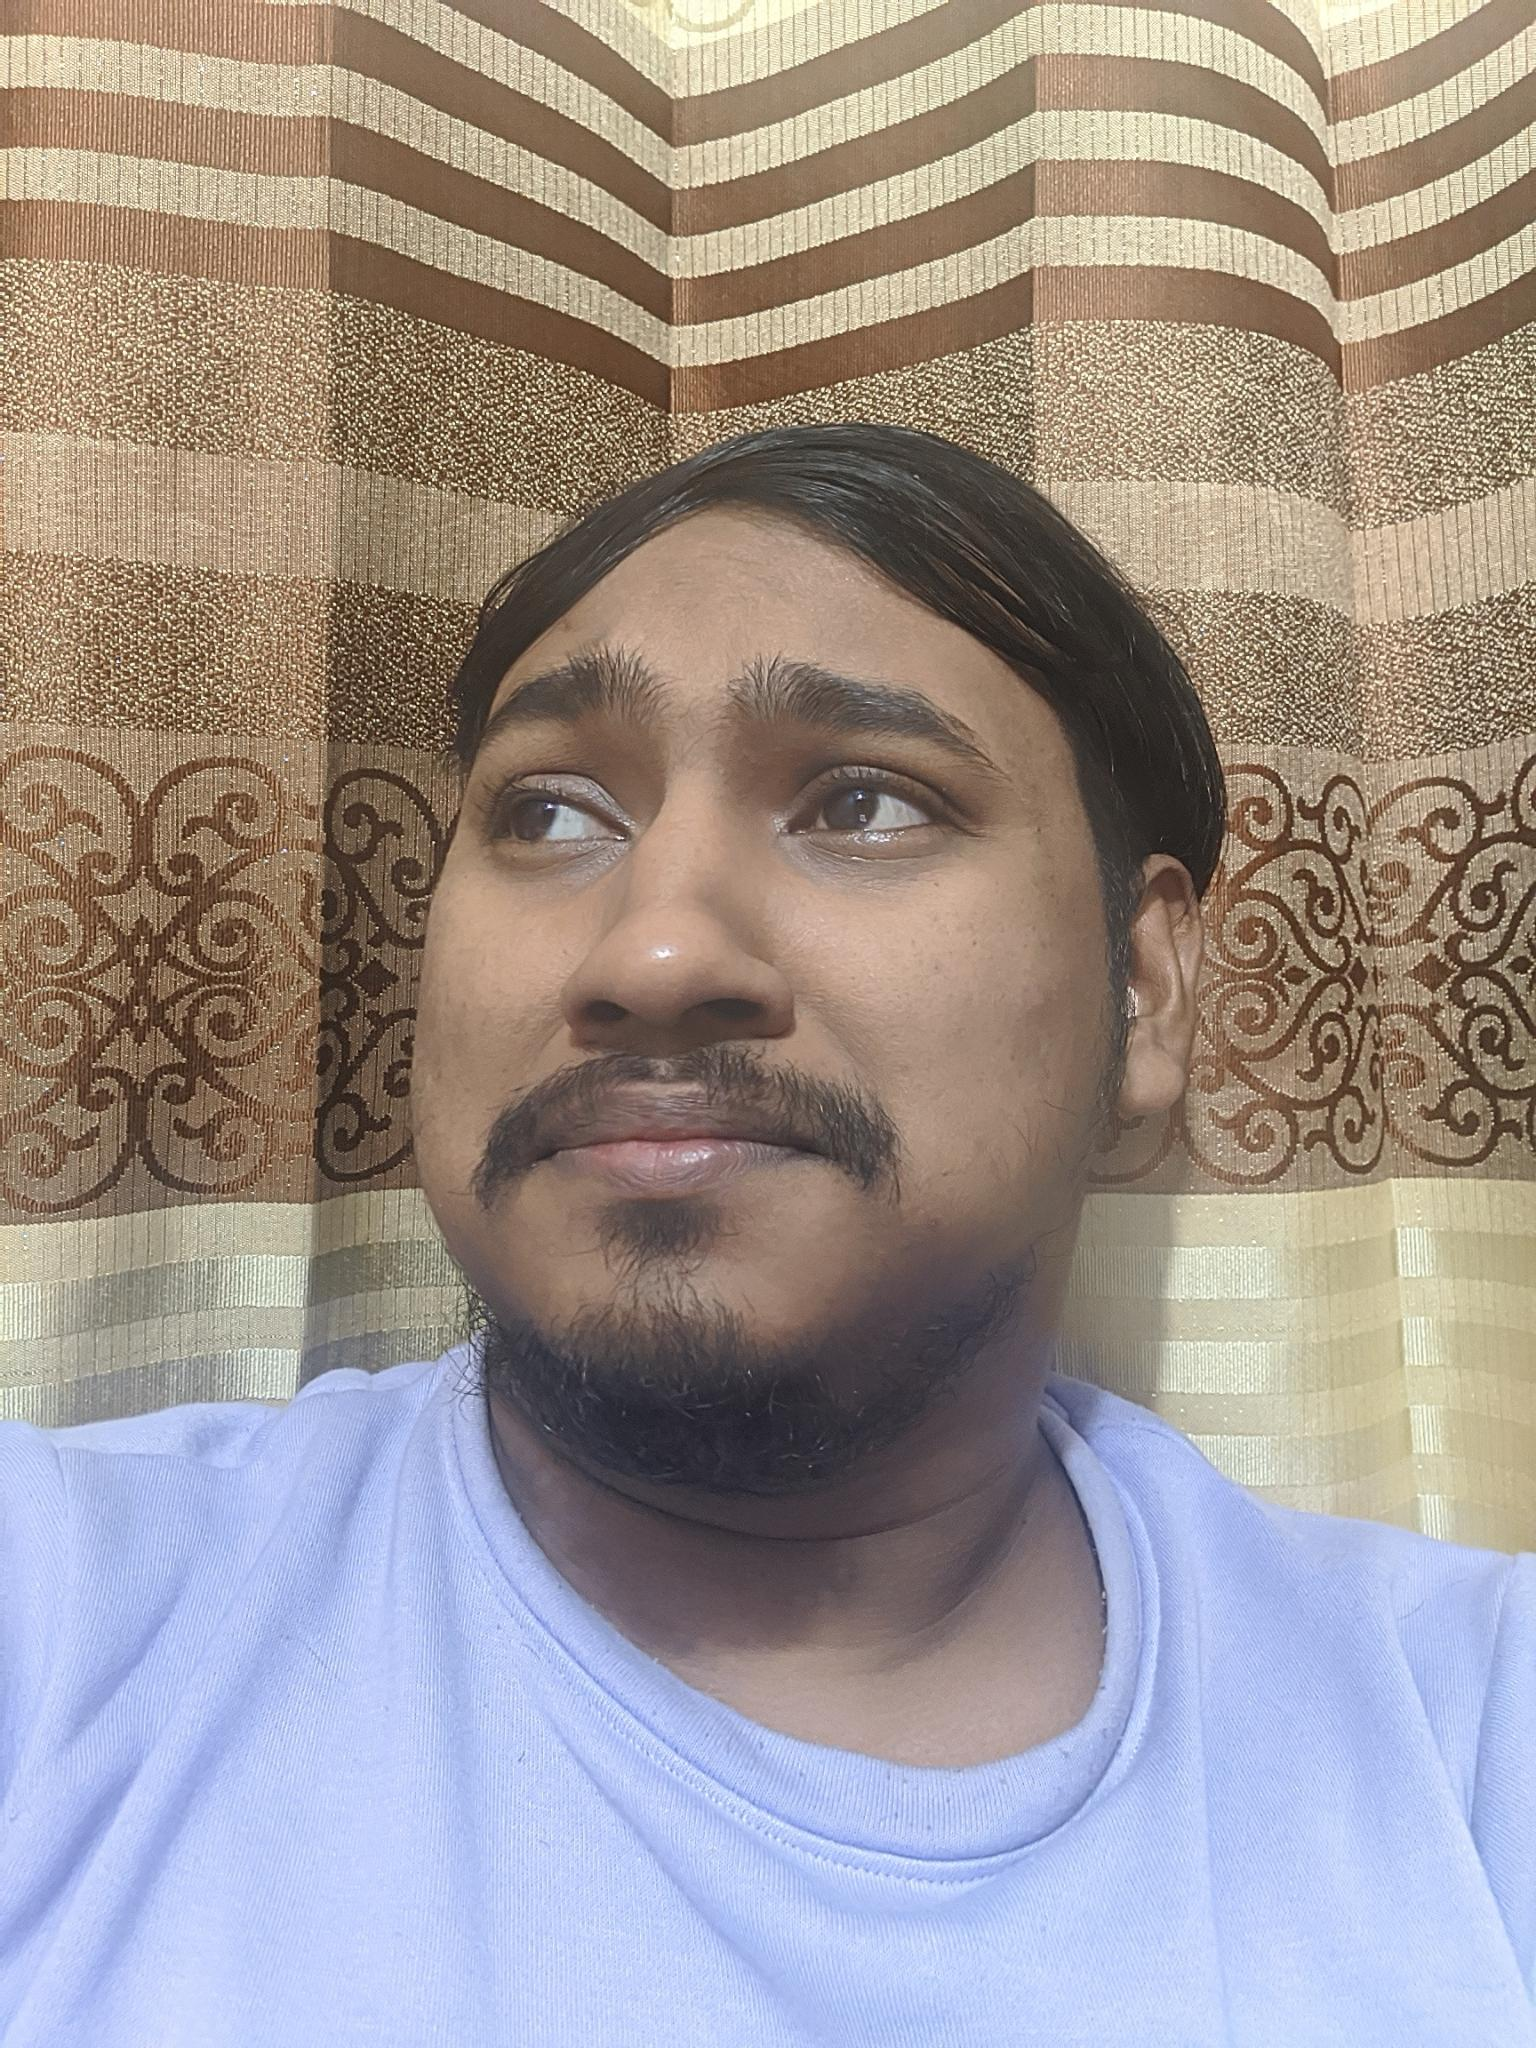Sad: (366, 581, 1049, 1426)
